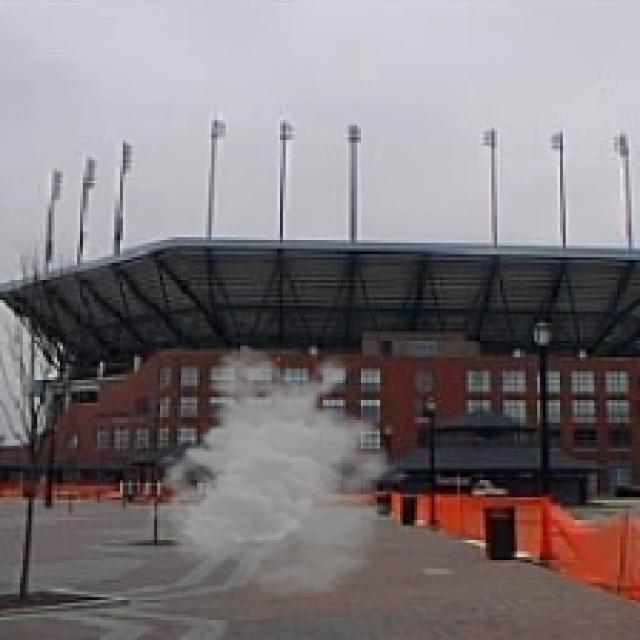smoke: (146, 346, 420, 600)
